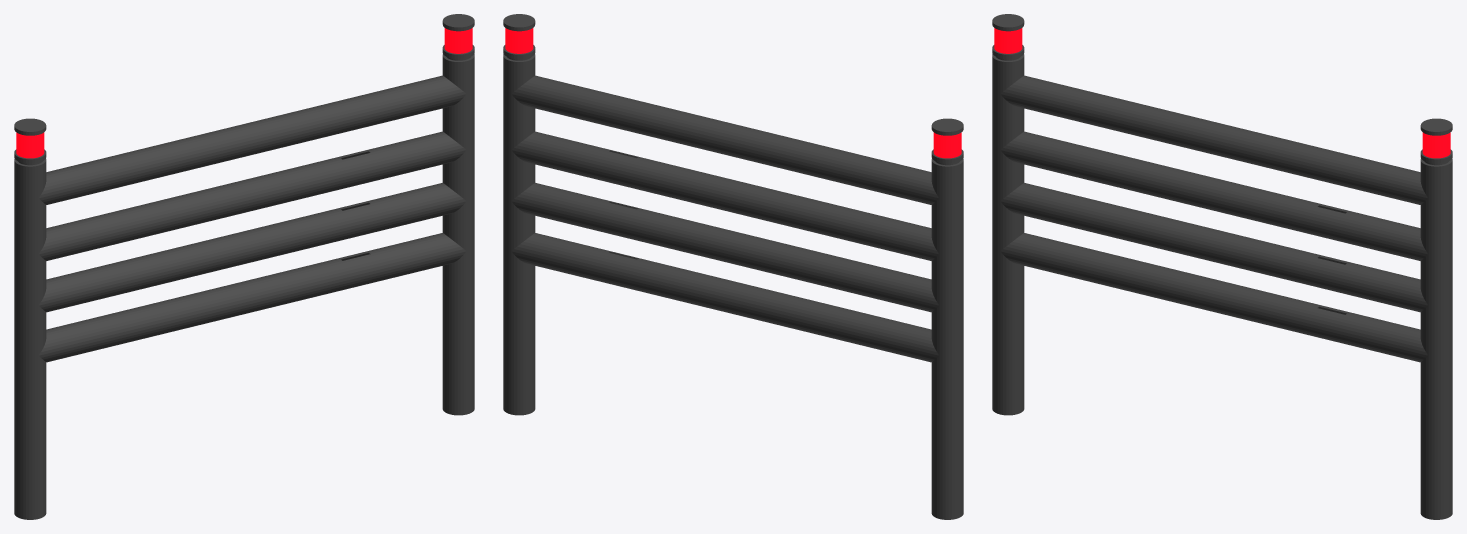
Rendered from fence.fbx.
The picture shows the model from 3 angles, left to right: view 1: azimuth 30°, elevation 25°; view 2: azimuth 150°, elevation 25°; view 3: azimuth 330°, elevation 25°; orthographic projection.
Parts seen in each view (by area): view 1: Cylinder, Cylinder.002, Cylinder.001; view 2: Cylinder, Cylinder.002, Cylinder.001; view 3: Cylinder, Cylinder.001, Cylinder.002.
Boxes of the visible parts, <box> form: Cylinder: <box>39,75,465,362</box>; Cylinder.002: <box>14,118,46,519</box>; Cylinder.001: <box>442,14,474,415</box>; Cylinder: <box>512,75,938,362</box>; Cylinder.002: <box>931,118,963,519</box>; Cylinder.001: <box>503,14,535,415</box>; Cylinder: <box>1001,75,1427,362</box>; Cylinder.001: <box>1420,118,1452,519</box>; Cylinder.002: <box>992,14,1024,415</box>.
Size of the model in its own units: 1541 by 1252 by 94.18.
